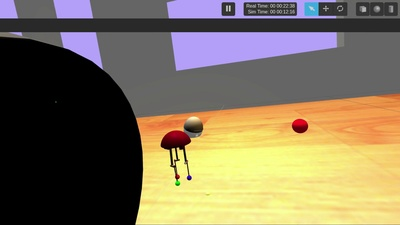mira_robot: (184, 116, 203, 137)
